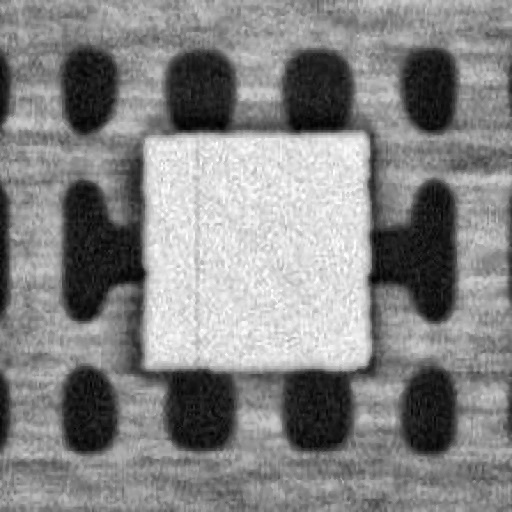DIE_CRACK: (188, 132, 200, 364)
